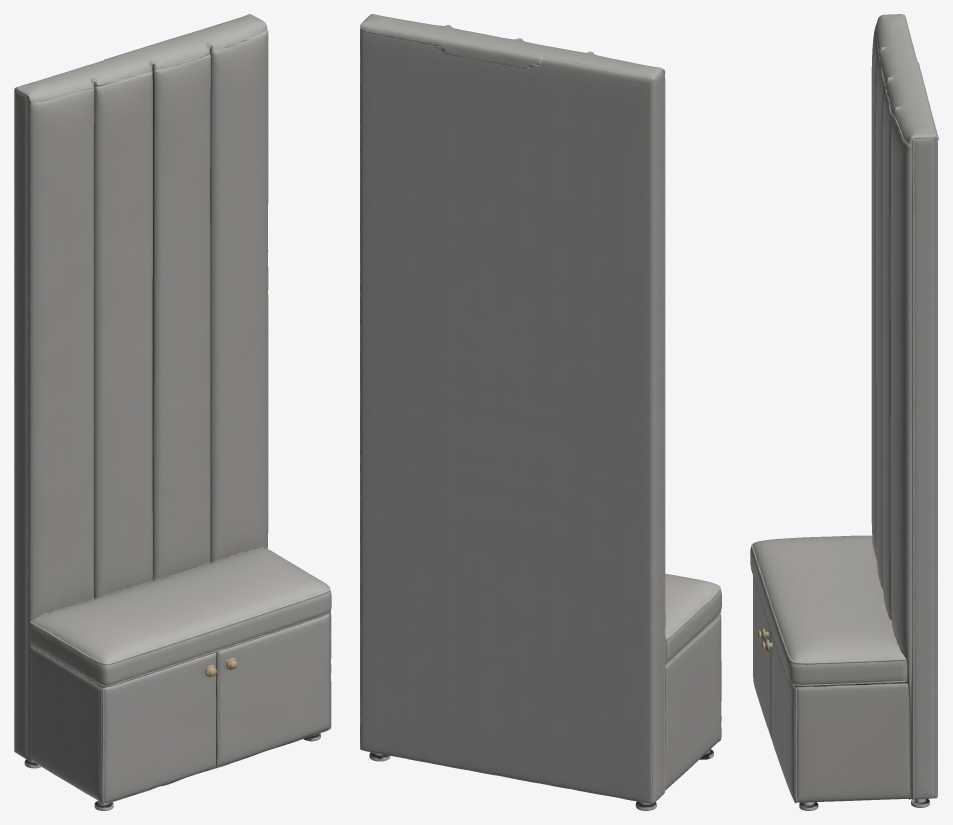
The model's file is Diana.glb.
3 views of the same model, side by side, from view 1: azimuth 30°, elevation 25°; view 2: azimuth 150°, elevation 25°; view 3: azimuth 270°, elevation 25° (orthographic). The views are drawn at different scales.
Parts seen in each view (by area): view 1: tripo_node_4b5e2714-f272-40fe-8c59-304315dde498; view 2: tripo_node_4b5e2714-f272-40fe-8c59-304315dde498; view 3: tripo_node_4b5e2714-f272-40fe-8c59-304315dde498.
Part boxes in pixels (bbox=[...]): tripo_node_4b5e2714-f272-40fe-8c59-304315dde498: bbox=[14, 14, 331, 810]; tripo_node_4b5e2714-f272-40fe-8c59-304315dde498: bbox=[360, 14, 721, 810]; tripo_node_4b5e2714-f272-40fe-8c59-304315dde498: bbox=[750, 14, 938, 810].
Size of the model in its own units: 0.399 by 0.9805 by 0.2482.
1 material, 1 textured.
